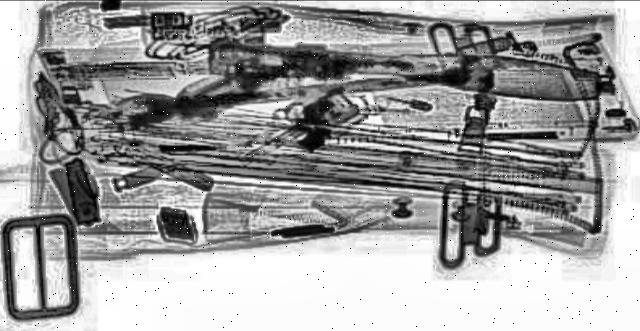Knife: (239, 42, 613, 108)
